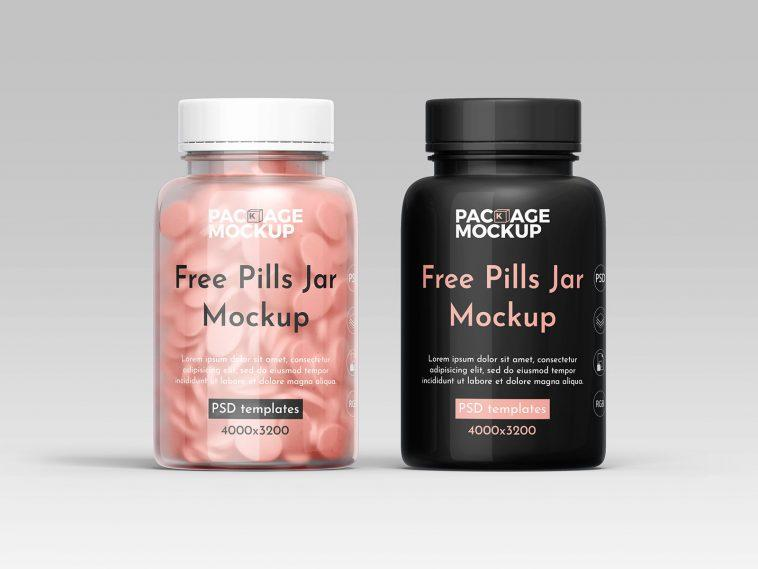jar: (400, 99, 608, 473), (152, 99, 360, 472)
